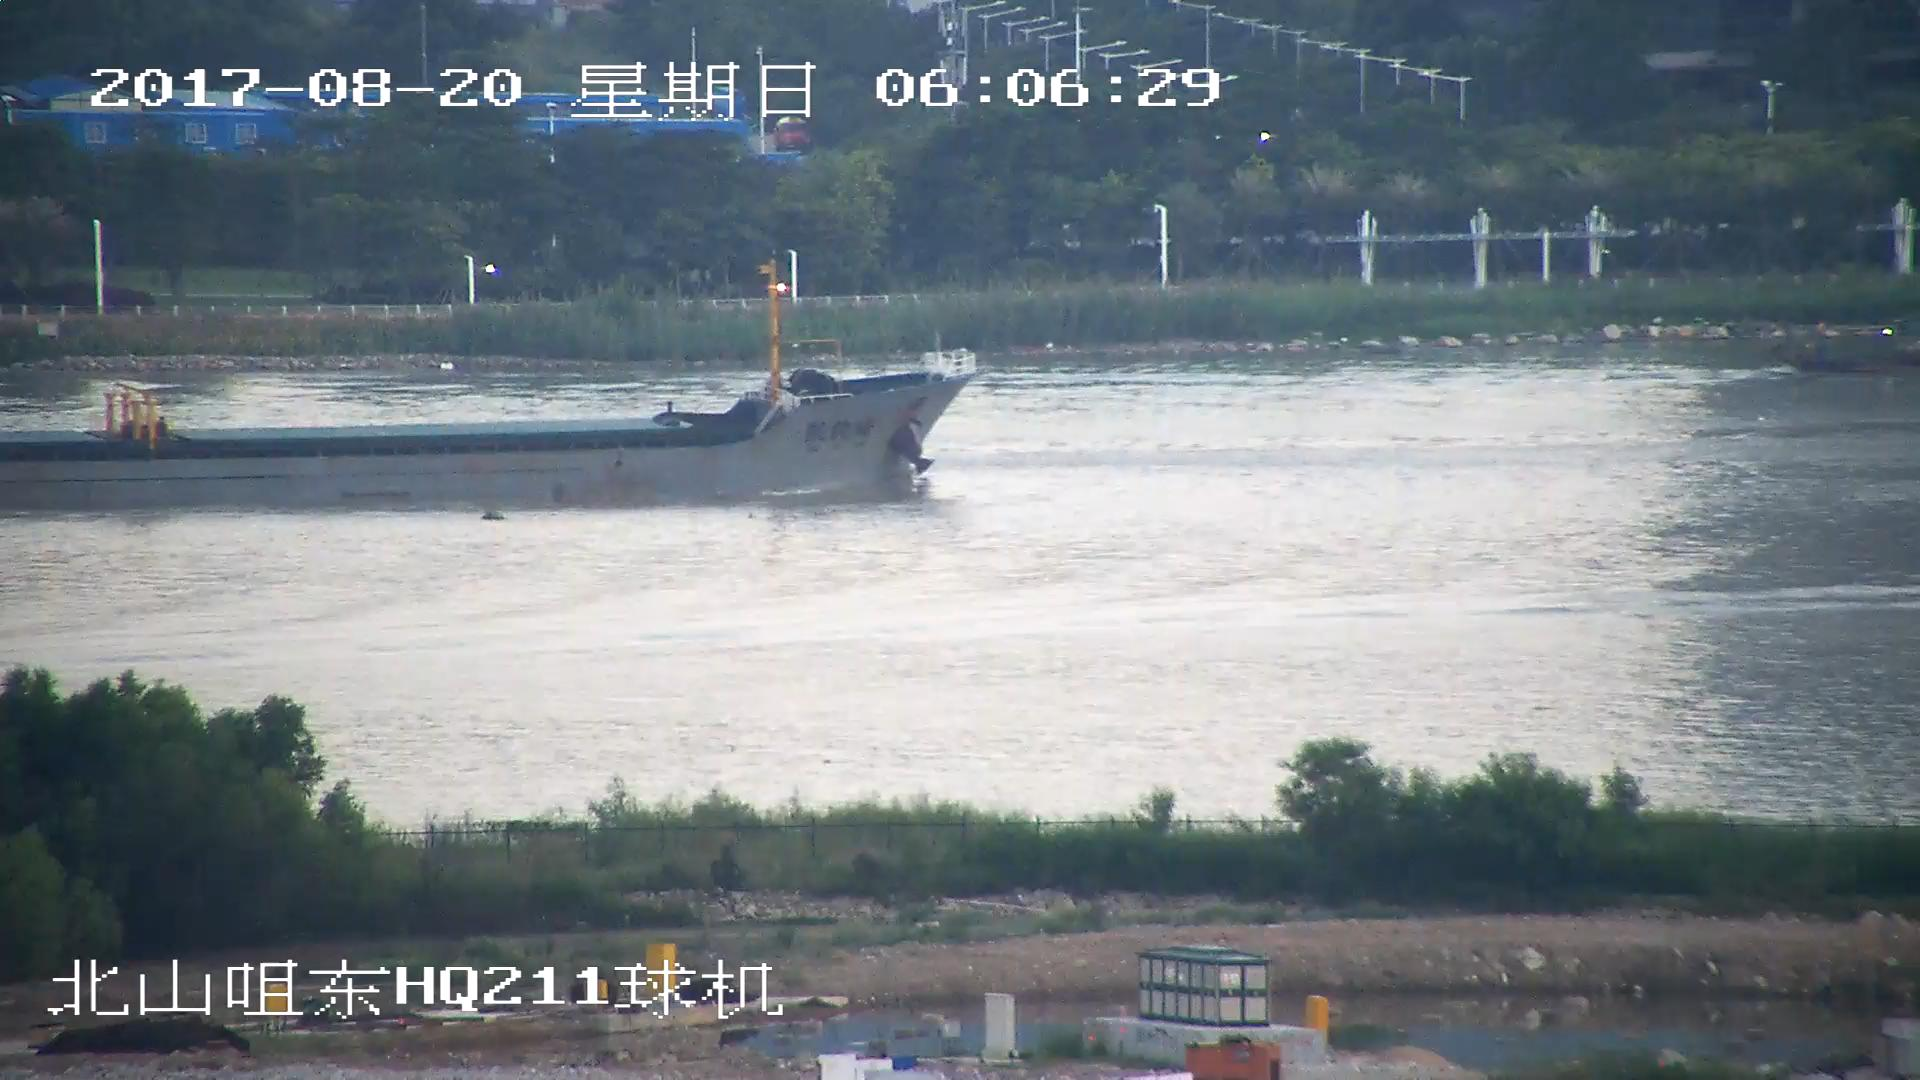general cargo ship: (1, 268, 979, 504)
